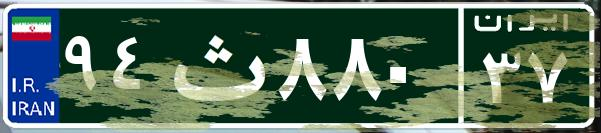0: (385, 28, 445, 110)
3: (475, 38, 525, 113)
4: (110, 28, 158, 105)
7: (525, 38, 570, 115)
8: (273, 28, 330, 110), (330, 28, 385, 110)
9: (57, 26, 110, 107)
ث: (158, 15, 273, 115)
